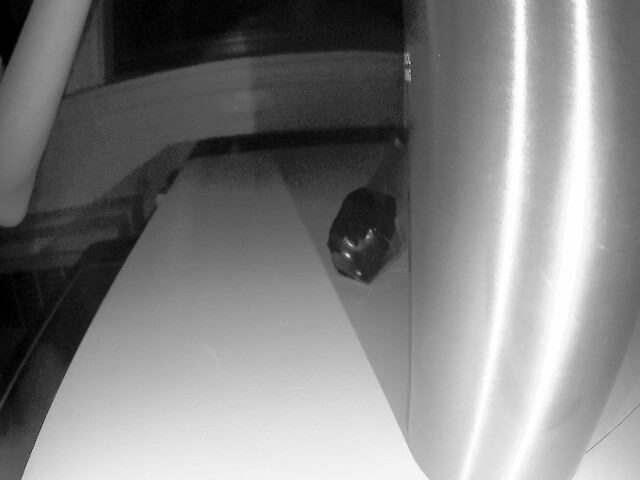silver: (325, 176, 395, 303)
